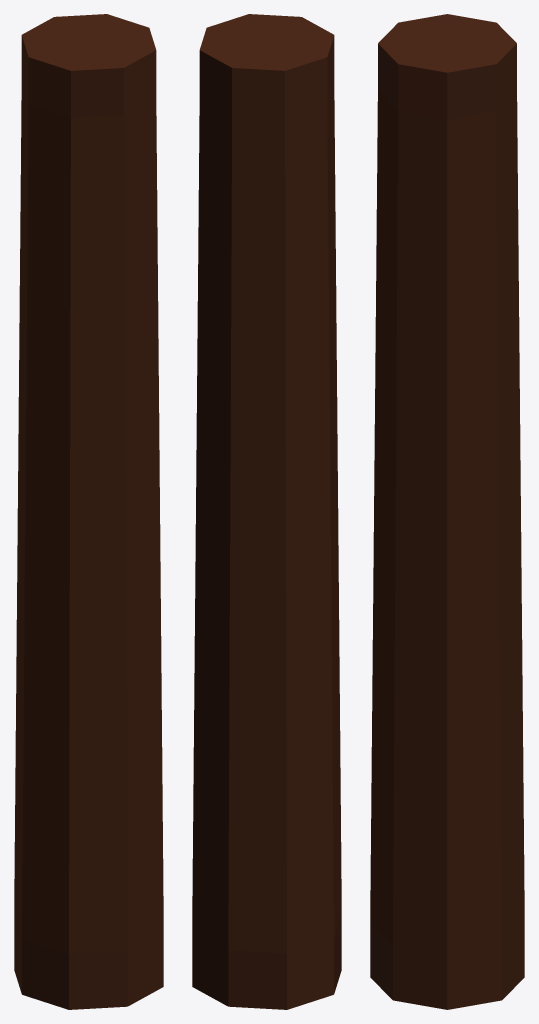
Rendered from D30_Pier_Post_2m.fbx.
The picture shows the model from 3 angles, left to right: view 1: azimuth 30°, elevation 25°; view 2: azimuth 150°, elevation 25°; view 3: azimuth 270°, elevation 25°; orthographic projection.
Visible parts, largest first — view 1: D30_Pier_Post_2m; view 2: D30_Pier_Post_2m; view 3: D30_Pier_Post_2m.
Boxes of the visible parts, x1,y1,x2,y2 form: D30_Pier_Post_2m: [14, 14, 163, 1009]; D30_Pier_Post_2m: [192, 14, 341, 1009]; D30_Pier_Post_2m: [370, 14, 524, 1009].
Size of the model in its own units: 0.3 by 2 by 0.3.
Materials: 1 (1 with a texture image).
